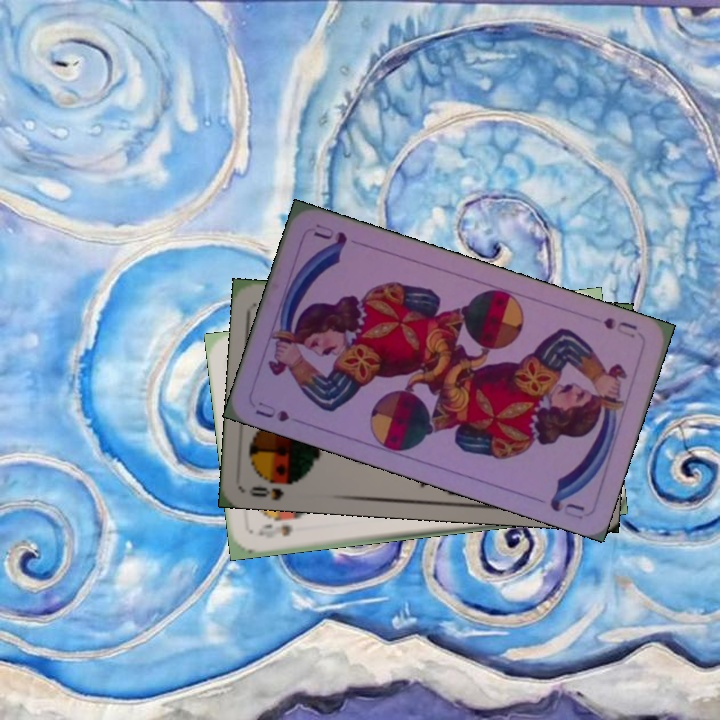SO: (244, 474, 301, 502), (254, 520, 295, 541)
SU: (251, 397, 292, 425), (599, 313, 640, 341)
